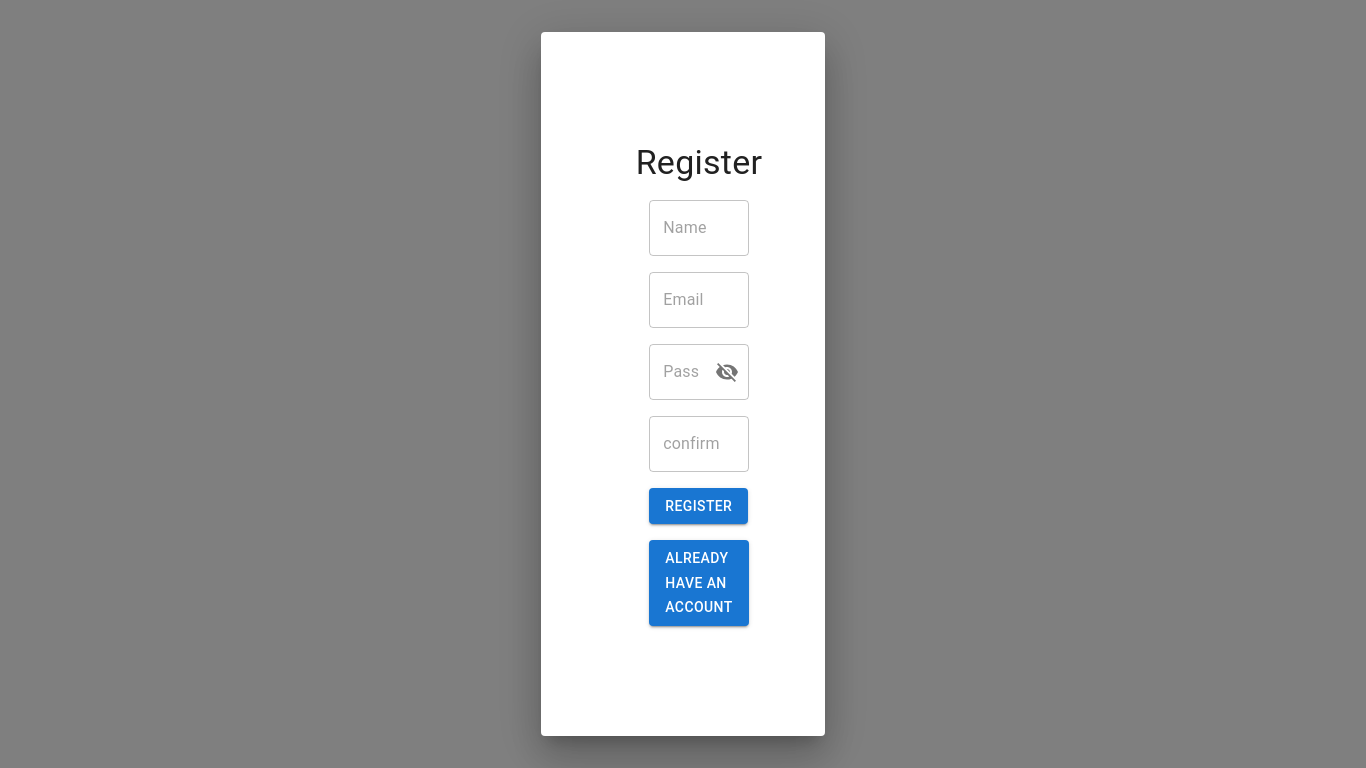
Test: Register Component › shows error message when sign up fails
Type "Test User" into the field with placeholder "Name" at (699, 228), box [649,200,749,256]
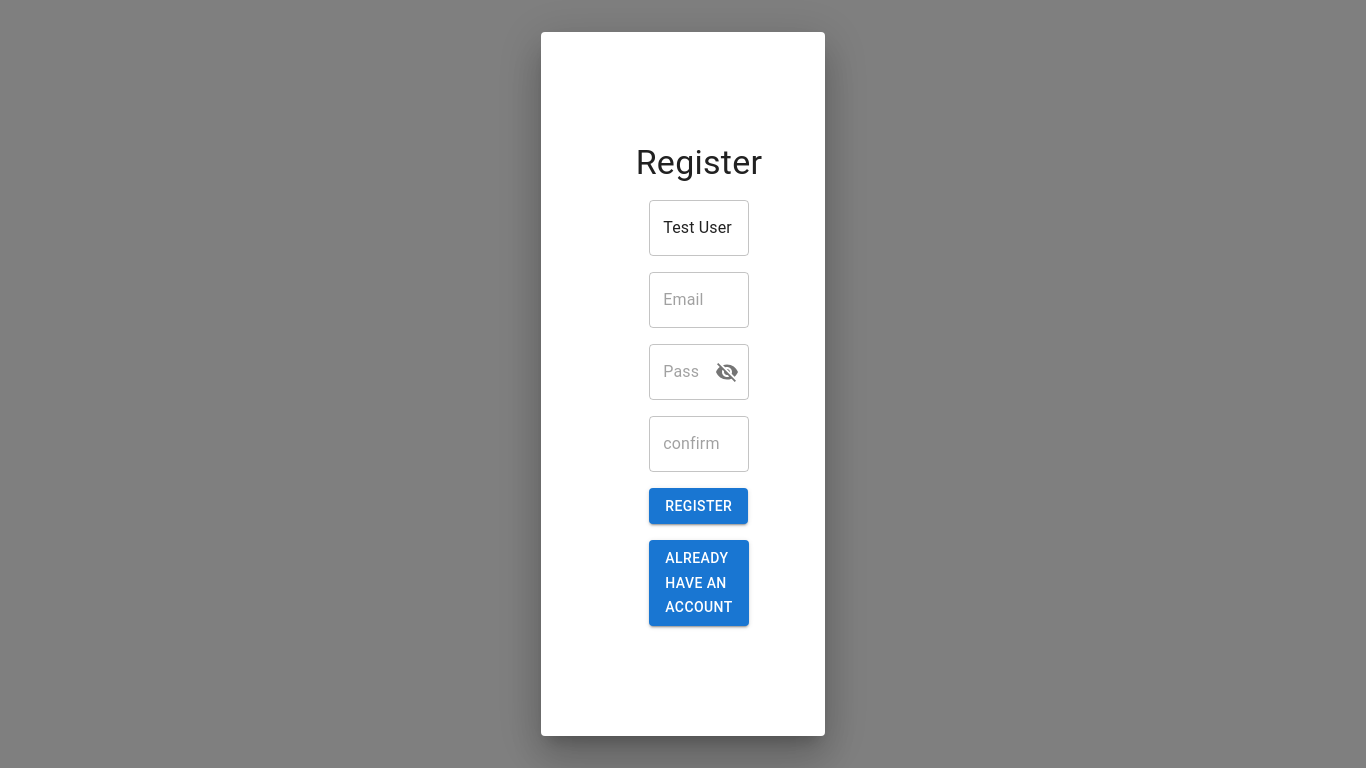
Type "test@example.com" into the field with placeholder "Email" at (699, 300), box [649,272,749,328]
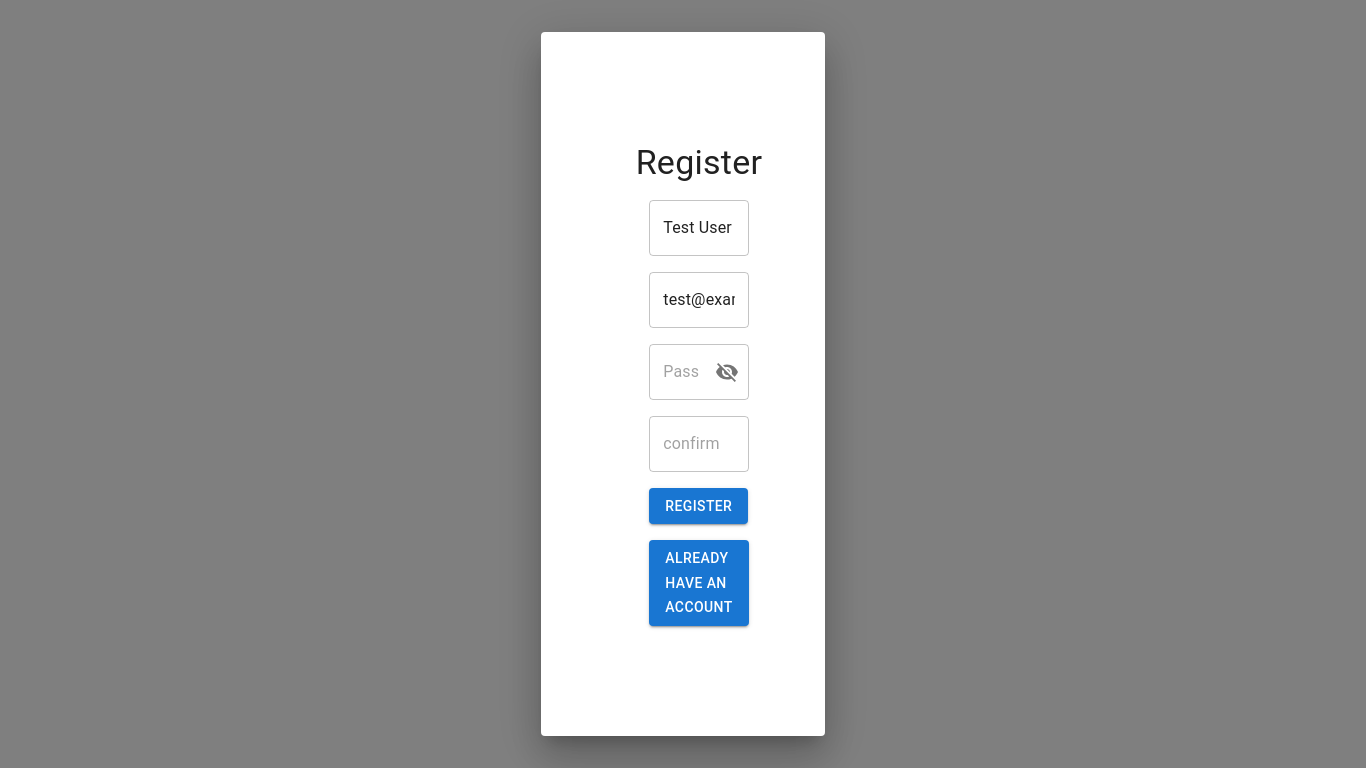
Type "password123" into the password field with placeholder "Password" at (674, 372), box [649,344,699,400]
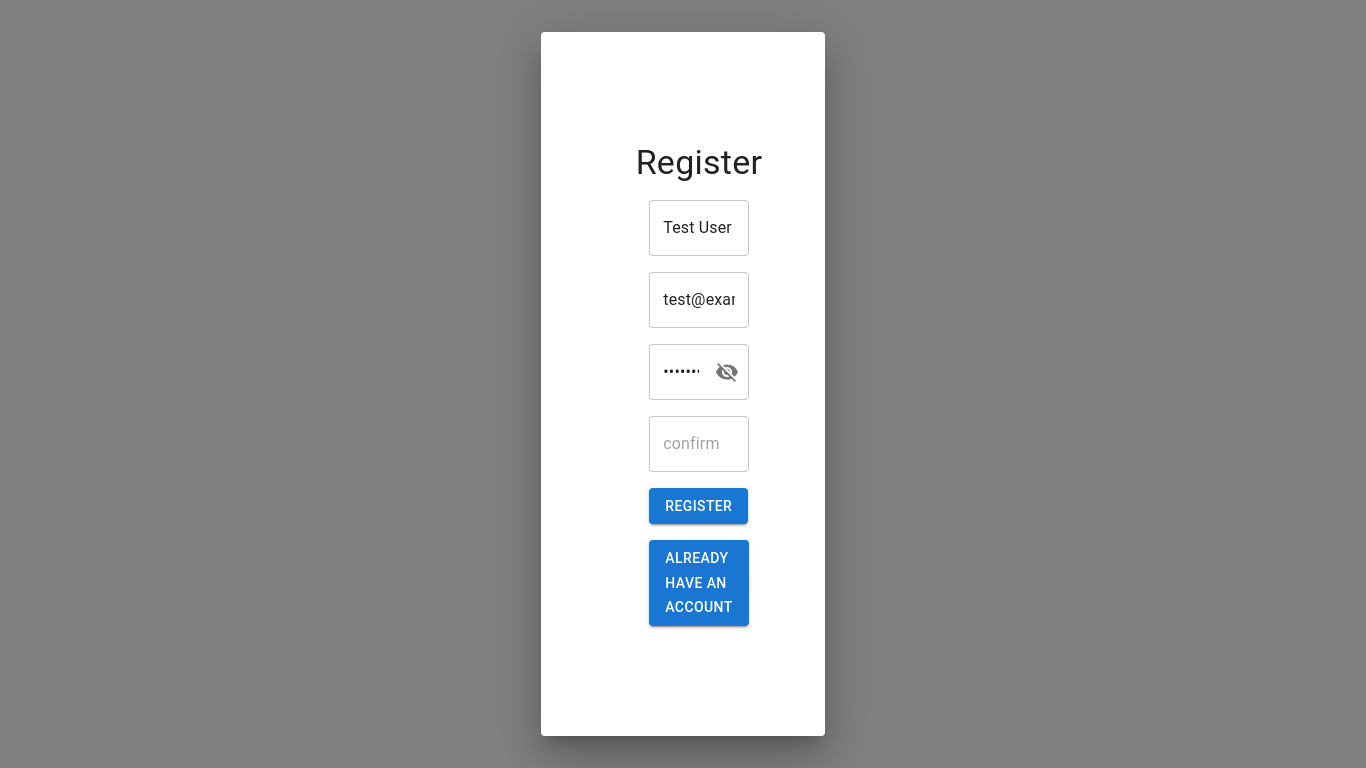
Type "password123" into the password field with placeholder "confirm" at (699, 444), box [649,416,749,472]
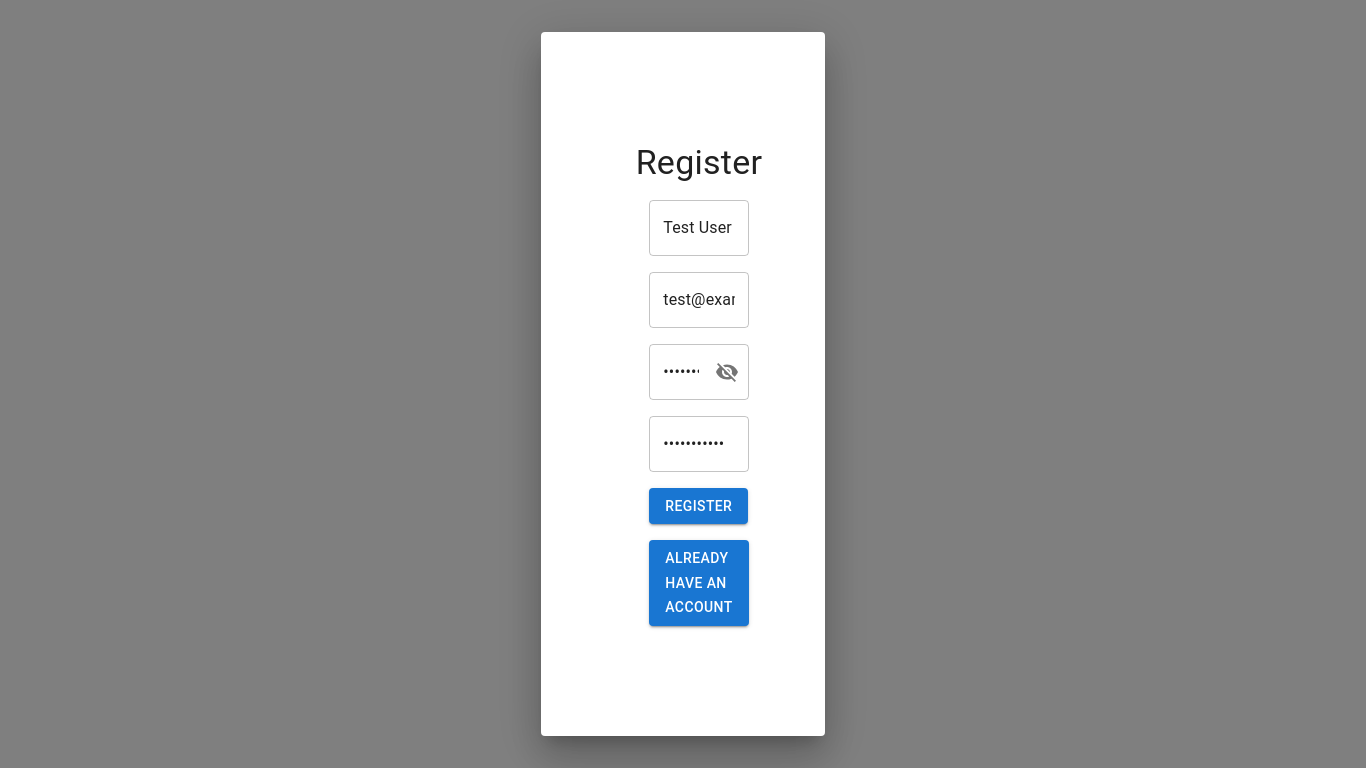
Click the button with test id "register" at (699, 506), box [649,488,748,524]
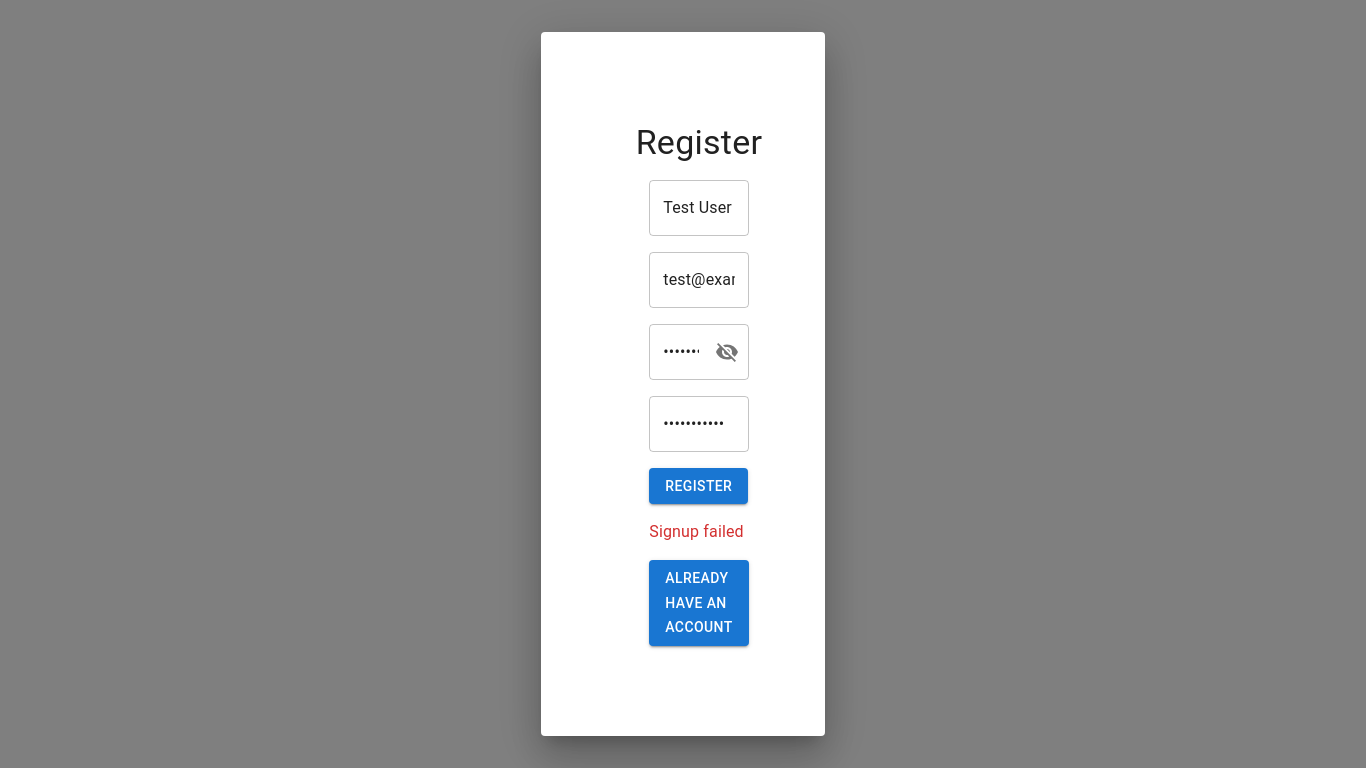
Now the text "Signup failed" is shown, box [649,520,749,544]
